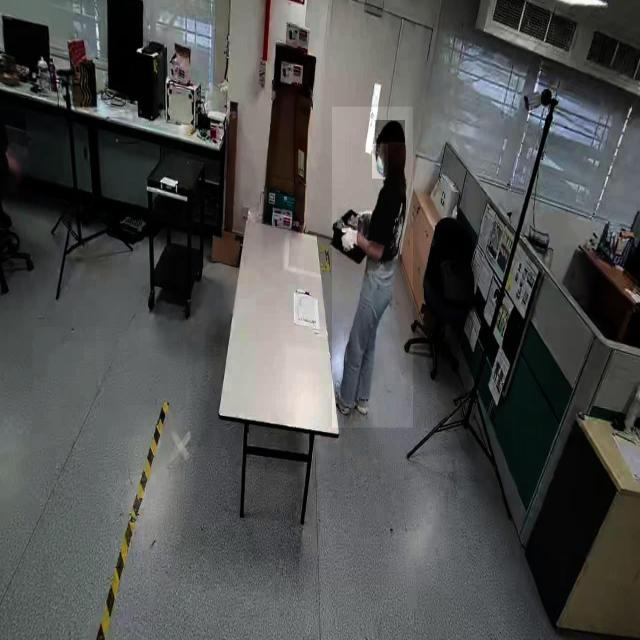face_mask: (372, 144, 388, 179)
hand_glove: (337, 208, 369, 257)
head_nohelmet: (375, 120, 405, 143)
person: (332, 106, 414, 428)
